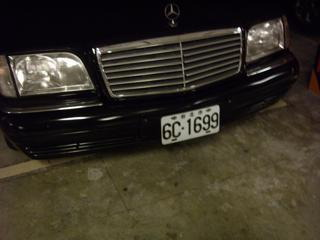plate: (159, 106, 220, 142)
